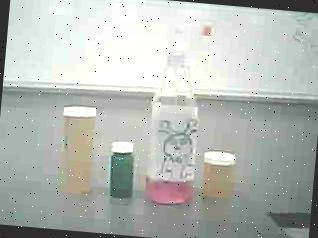Bottle A: (50, 97, 107, 200)
Bottle B: (197, 139, 242, 203)
Bottle C: (103, 136, 142, 207)
hazard: (139, 13, 215, 215)
